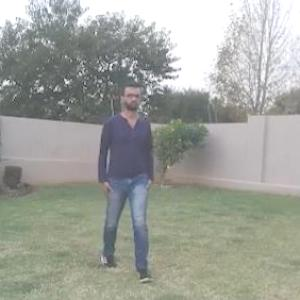follow: (106, 92, 154, 252)
